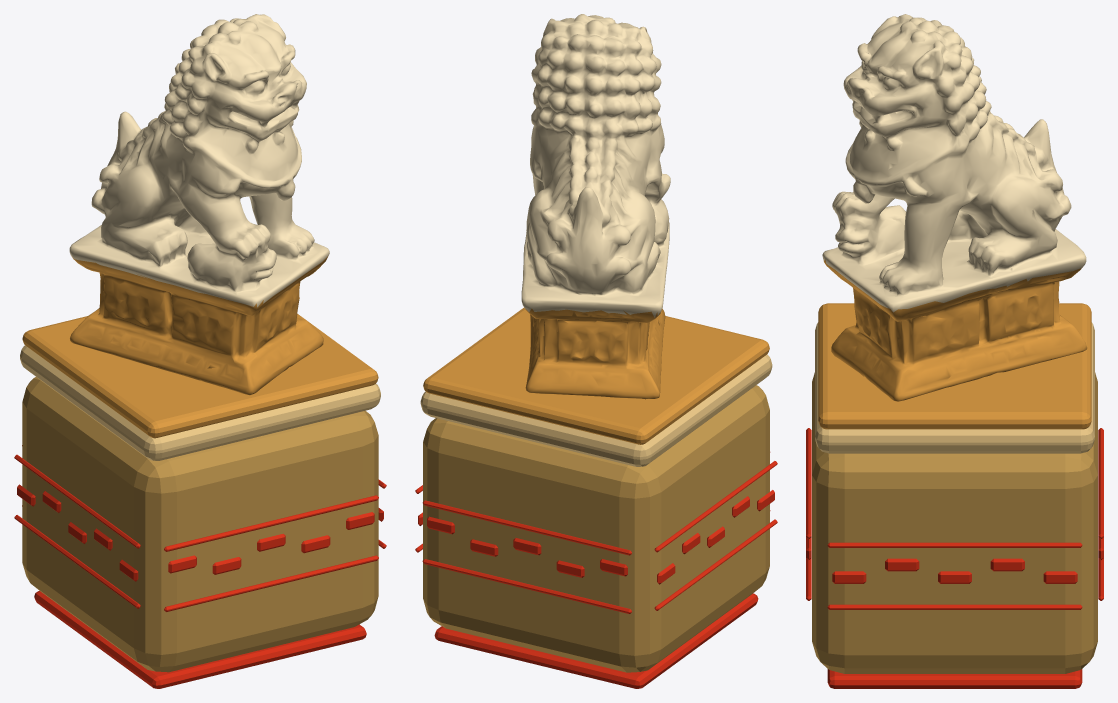
The model's file is yuxi.fbx.
The picture shows the model from 3 angles, left to right: view 1: azimuth 30°, elevation 25°; view 2: azimuth 150°, elevation 25°; view 3: azimuth 270°, elevation 25°; orthographic projection. The views are drawn at different scales.
Parts seen in each view (by area): view 1: warm-nephrite-seal-body, licensed-warm-jade-guardian-lion, antique-gold-guardian-collar, milky-jade-raised-shoulder, cinnabar-meander-band, cinnabar-stamp-face; view 2: warm-nephrite-seal-body, licensed-warm-jade-guardian-lion, antique-gold-guardian-collar, milky-jade-raised-shoulder, cinnabar-meander-band, cinnabar-stamp-face; view 3: licensed-warm-jade-guardian-lion, warm-nephrite-seal-body, antique-gold-guardian-collar, milky-jade-raised-shoulder, cinnabar-meander-band, cinnabar-stamp-face.
Part boxes in pixels (<box>): warm-nephrite-seal-body: <box>22,377,378,672</box>; licensed-warm-jade-guardian-lion: <box>69,14,329,395</box>; antique-gold-guardian-collar: <box>22,314,378,438</box>; milky-jade-raised-shoulder: <box>20,345,380,460</box>; cinnabar-meander-band: <box>14,445,386,611</box>; cinnabar-stamp-face: <box>34,591,366,688</box>; warm-nephrite-seal-body: <box>423,385,769,672</box>; licensed-warm-jade-guardian-lion: <box>521,14,670,399</box>; antique-gold-guardian-collar: <box>423,307,769,444</box>; milky-jade-raised-shoulder: <box>420,354,772,466</box>; cinnabar-meander-band: <box>415,452,777,613</box>; cinnabar-stamp-face: <box>434,593,758,688</box>; licensed-warm-jade-guardian-lion: <box>822,14,1087,401</box>; warm-nephrite-seal-body: <box>812,372,1097,673</box>; antique-gold-guardian-collar: <box>818,303,1091,429</box>; milky-jade-raised-shoulder: <box>815,322,1094,453</box>; cinnabar-meander-band: <box>806,428,1103,609</box>; cinnabar-stamp-face: <box>827,669,1082,688</box>.
Bounding box in the file's own units: 43.29 × 100 × 43.29.
